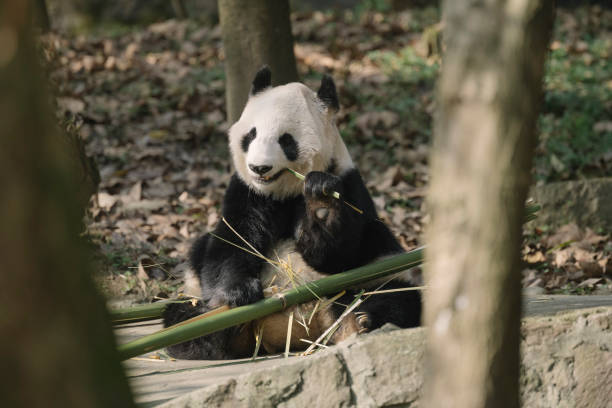panda: (201, 57, 356, 204)
